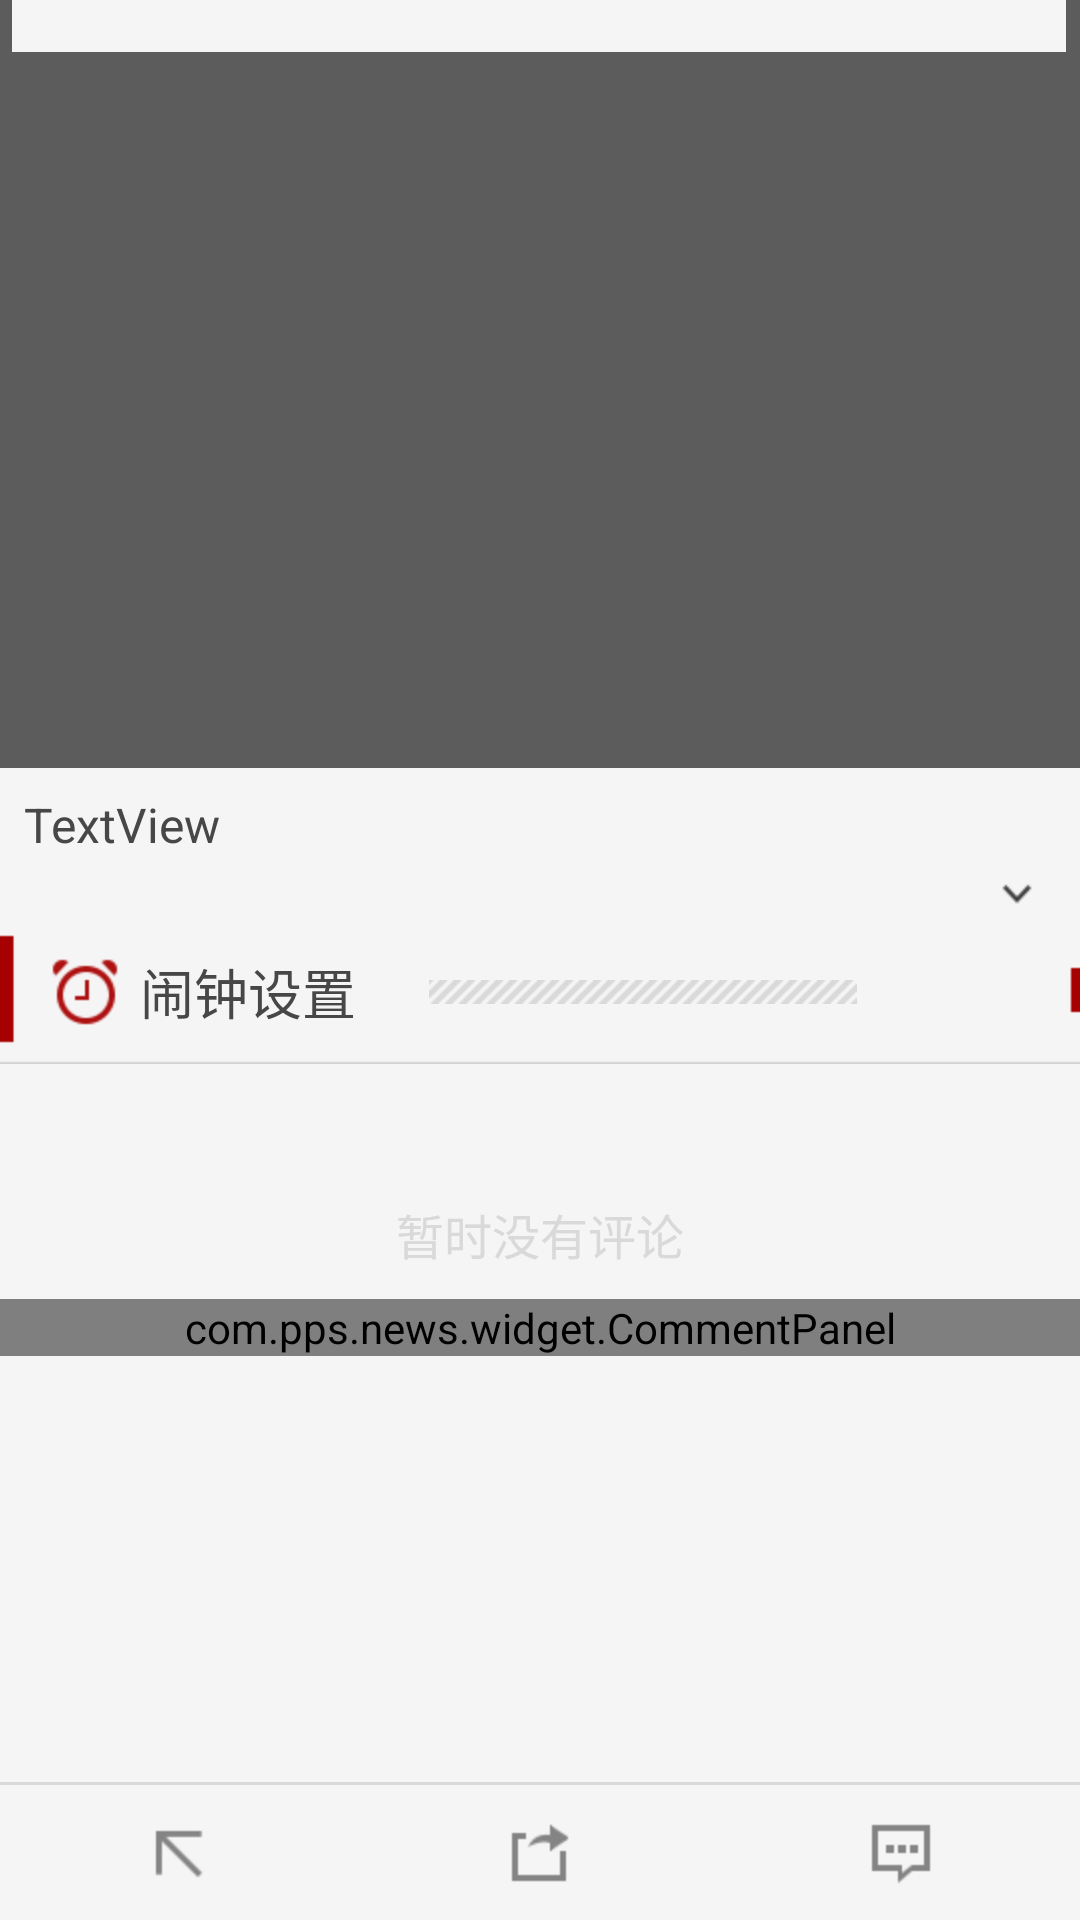

Icon click points for this 1080 × 1920 phone screenshot, format (x,y):
back: (178,1853)
expand: (1017,893)
post: (901,1853)
share: (539,1853)
